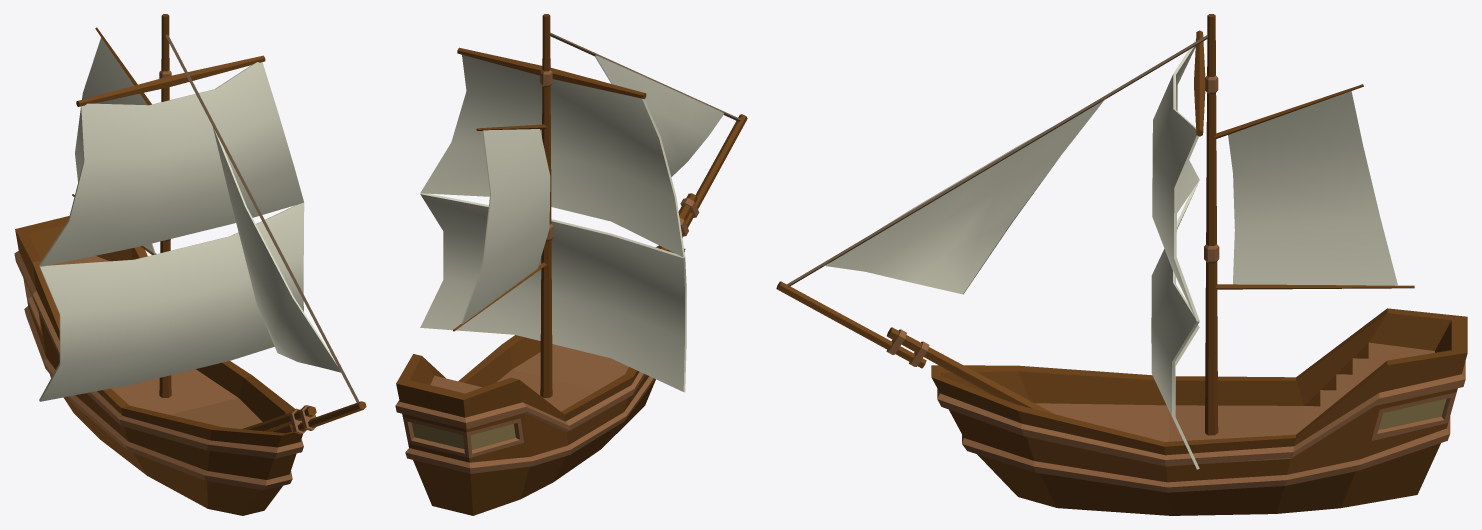
File: Sloop.fbx
3 views of the same model, side by side, from view 1: azimuth 30°, elevation 25°; view 2: azimuth 150°, elevation 25°; view 3: azimuth 270°, elevation 25° (orthographic). The views are drawn at different scales.
Visible parts, largest first — view 1: Sloop; view 2: Sloop; view 3: Sloop.
Part boxes in pixels (x1,y1,x2,y2): Sloop: [14, 14, 366, 515]; Sloop: [395, 14, 747, 515]; Sloop: [776, 14, 1467, 515].
Size of the model in its own units: 469 by 742 by 967.
